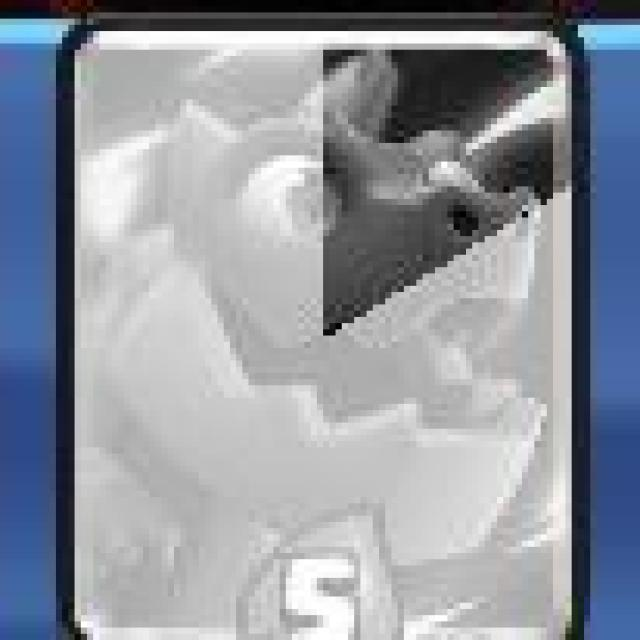Electro_Dragon: (55, 8, 590, 640)
